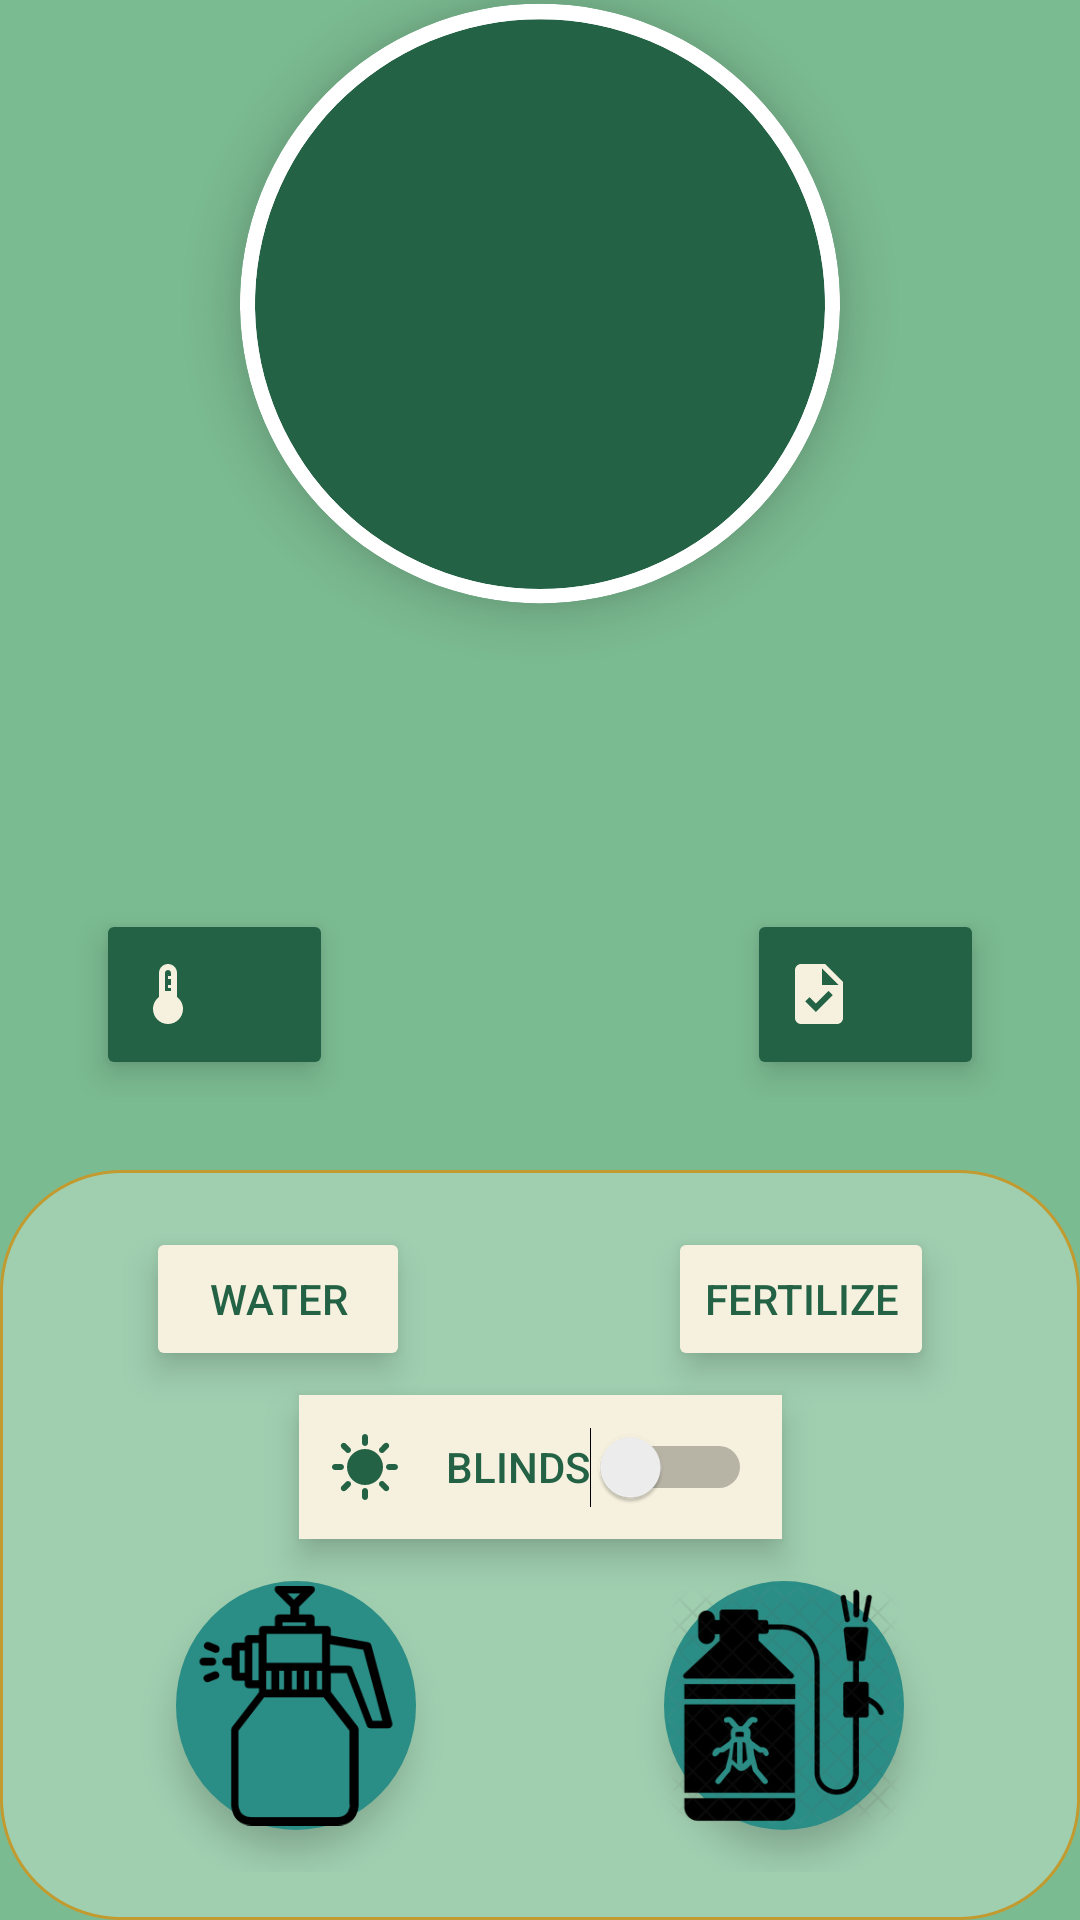

Named icons in this screenshot (1080x1920) and their centers, point (x, y):
bugspray: point (784, 1705)
waterspray: point (296, 1705)
